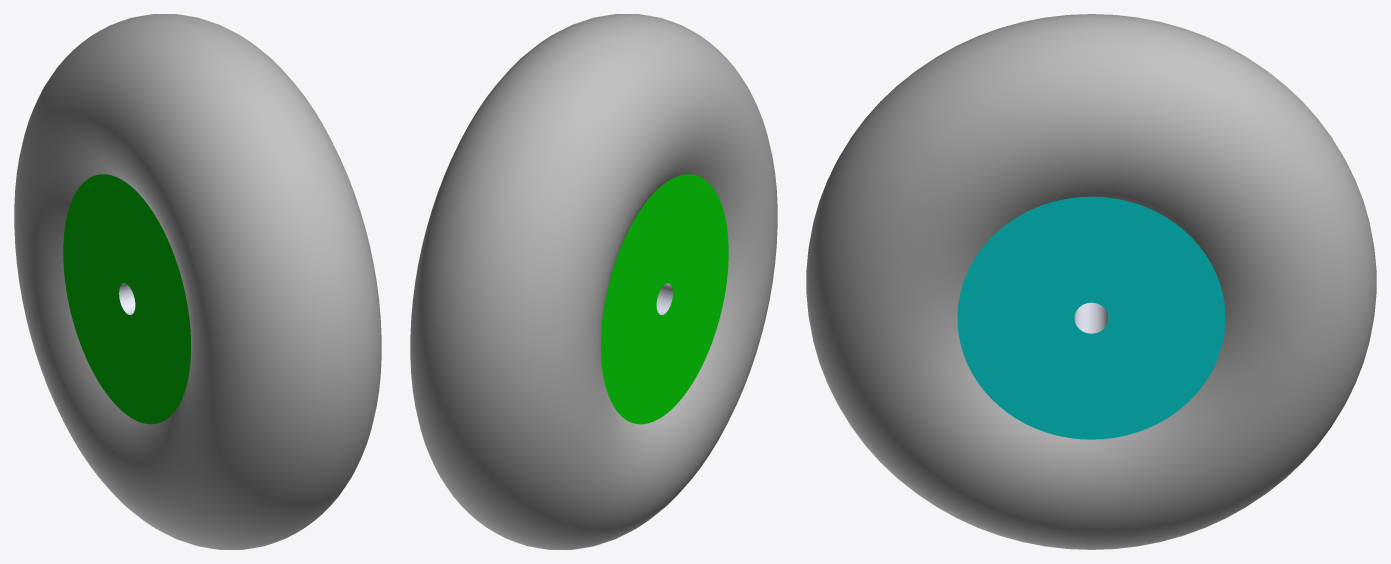
The model's file is wheel1.gltf.
The picture shows the model from 3 angles, left to right: view 1: azimuth 30°, elevation 25°; view 2: azimuth 150°, elevation 25°; view 3: azimuth 270°, elevation 25°; orthographic projection. The views are drawn at different scales.
Parts seen in each view (by area): view 1: 3DGeom~5, 3DGeom~6; view 2: 3DGeom~5, 3DGeom~6; view 3: 3DGeom~5, 3DGeom~8, 3DGeom~7.
Boxes of the visible parts, x1,y1,x2,y2 form: 3DGeom~5: (14,14,381,549); 3DGeom~6: (63,174,190,424); 3DGeom~5: (410,14,777,549); 3DGeom~6: (601,174,728,424); 3DGeom~5: (806,14,1376,549); 3DGeom~8: (957,196,1225,439); 3DGeom~7: (1074,302,1108,333).
Size of the model in its own units: 0.07 by 0.2 by 0.1998.
